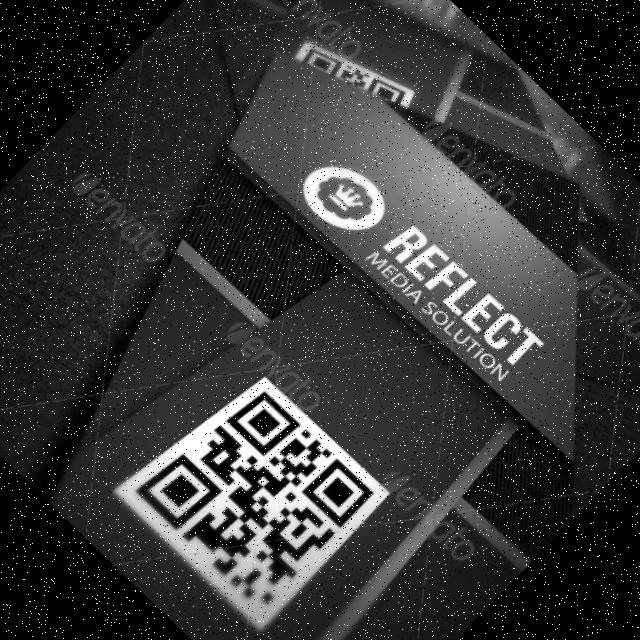QR-codes: (132, 372, 376, 618)
